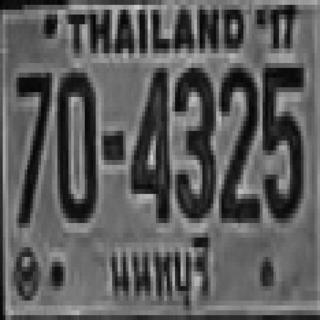N00: (56, 68, 94, 218)
N02: (219, 63, 257, 218)
N03: (172, 63, 213, 218)
N04: (128, 63, 170, 218)
N05: (261, 63, 302, 218)
N07: (15, 68, 50, 223)
P37: (107, 228, 216, 320)
